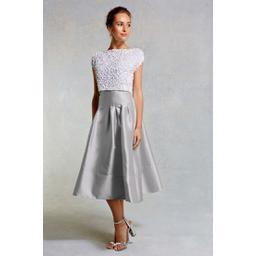Tshirt: (91, 46, 144, 92)
skirt: (73, 90, 162, 205)
